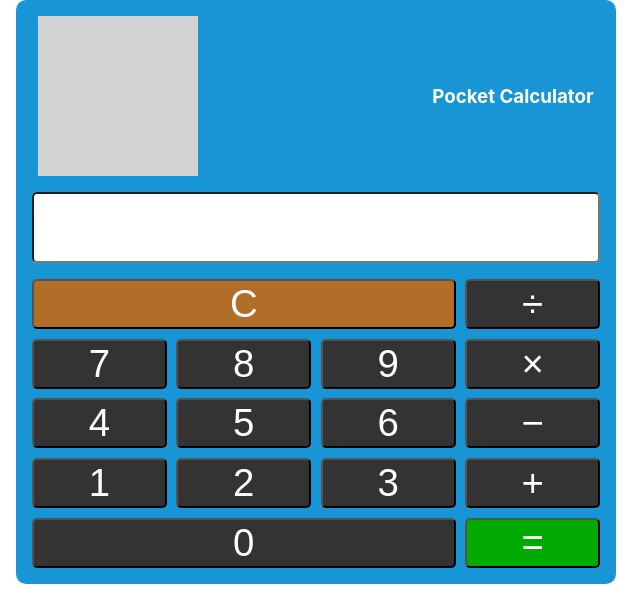
Calculator component › button interactions › should clear the screen after a button key value entry
Click the button with test id "Five".
click(244, 423)  # box [176, 398, 311, 448]
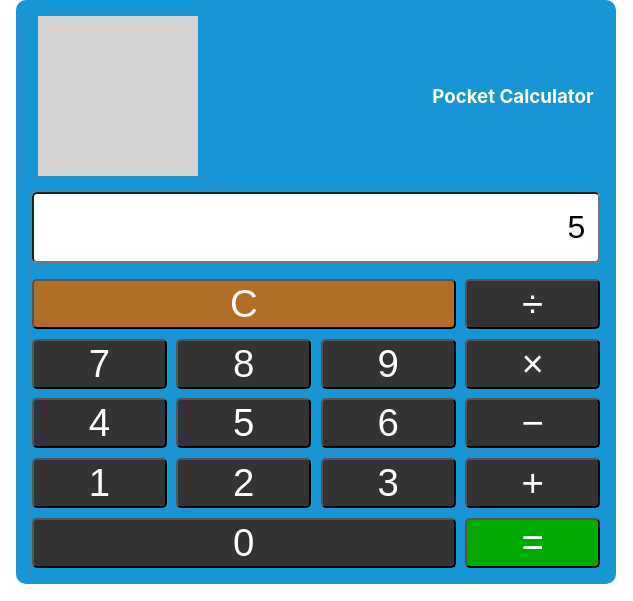
Now the field with test id "component-screen-input" holds "5", box [32, 192, 600, 263]
Click the button with test id "Clear".
click(244, 304)  # box [32, 279, 456, 329]
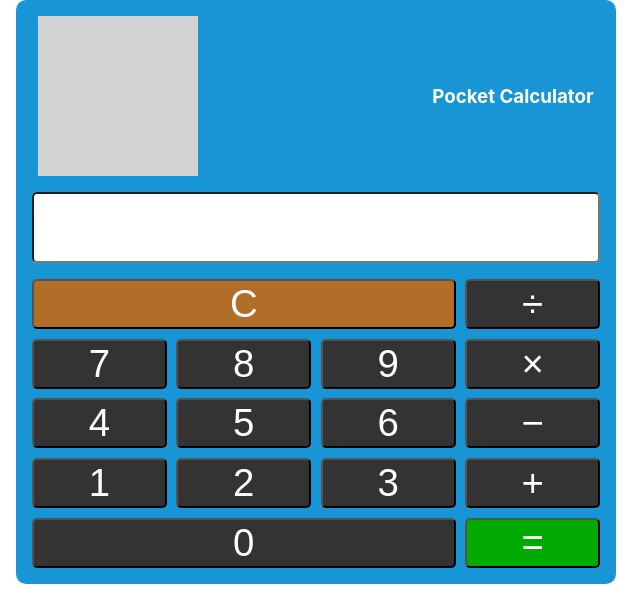
Now the field with test id "component-screen-input" is empty, box [32, 192, 600, 263]
